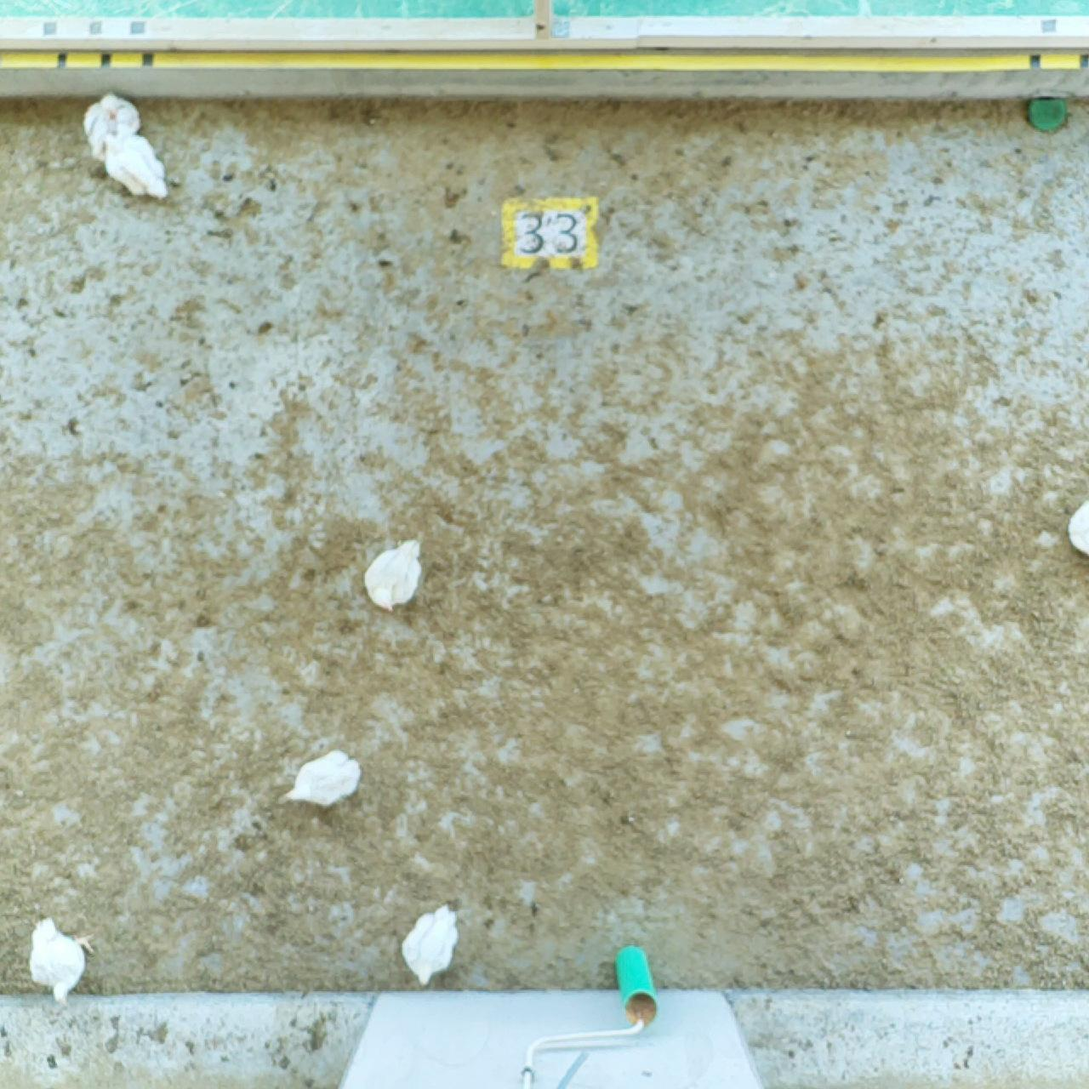chicken: (25, 918, 99, 1006), (392, 903, 470, 986), (282, 748, 370, 813), (104, 130, 174, 206), (361, 531, 430, 608), (81, 88, 143, 162), (1063, 486, 1089, 567)
